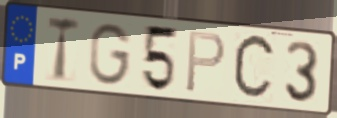3: (283, 40, 320, 104)
5: (141, 22, 178, 94)
C: (231, 31, 278, 104)
G: (88, 22, 134, 88)
P: (184, 30, 228, 95)
T: (45, 14, 82, 84)
